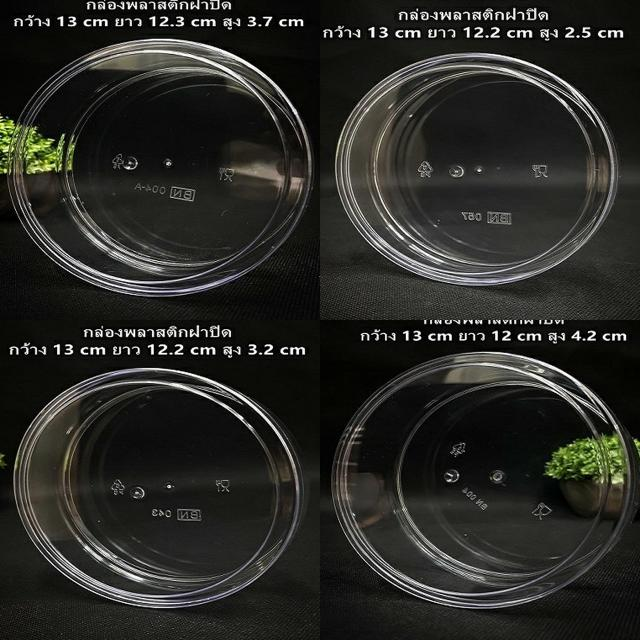Single-Use-Plastic: (331, 354, 640, 608), (9, 39, 312, 296), (15, 369, 304, 608), (335, 52, 619, 285)
